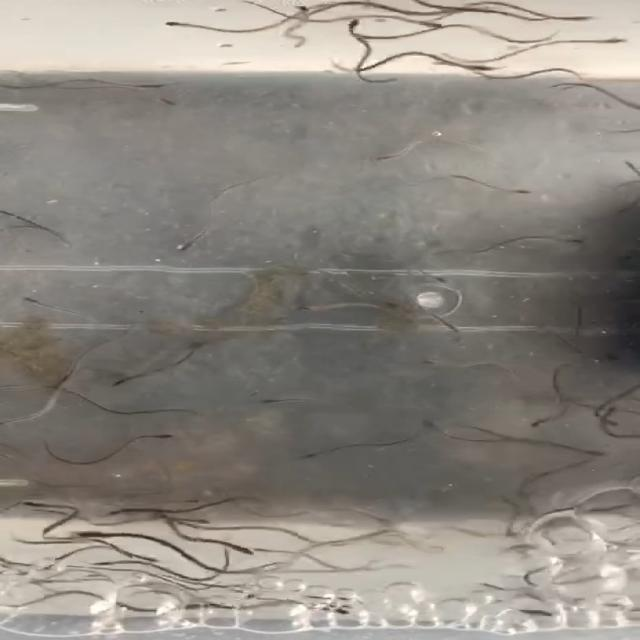active_glass_eel: (105, 366, 154, 394), (10, 291, 70, 313), (411, 267, 466, 289), (419, 315, 466, 339), (278, 299, 334, 319), (220, 542, 276, 562), (353, 150, 418, 166), (449, 58, 506, 76), (404, 16, 458, 34), (404, 356, 464, 372), (575, 440, 619, 461), (559, 10, 604, 30), (148, 16, 196, 34), (148, 94, 192, 113), (75, 524, 116, 544), (314, 603, 362, 620), (404, 415, 442, 436), (144, 429, 193, 445), (14, 493, 51, 514), (169, 234, 207, 254), (336, 16, 378, 34), (129, 550, 171, 568), (504, 180, 536, 203), (554, 232, 592, 251), (250, 394, 289, 412), (283, 3, 323, 20), (87, 558, 128, 574), (521, 414, 555, 433), (127, 79, 172, 93), (293, 444, 326, 463), (97, 504, 136, 520), (0, 415, 43, 428), (179, 514, 218, 528), (604, 33, 634, 51), (609, 155, 639, 172)
